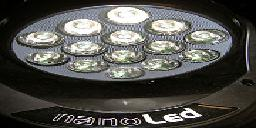LED: (14, 6, 237, 84)
